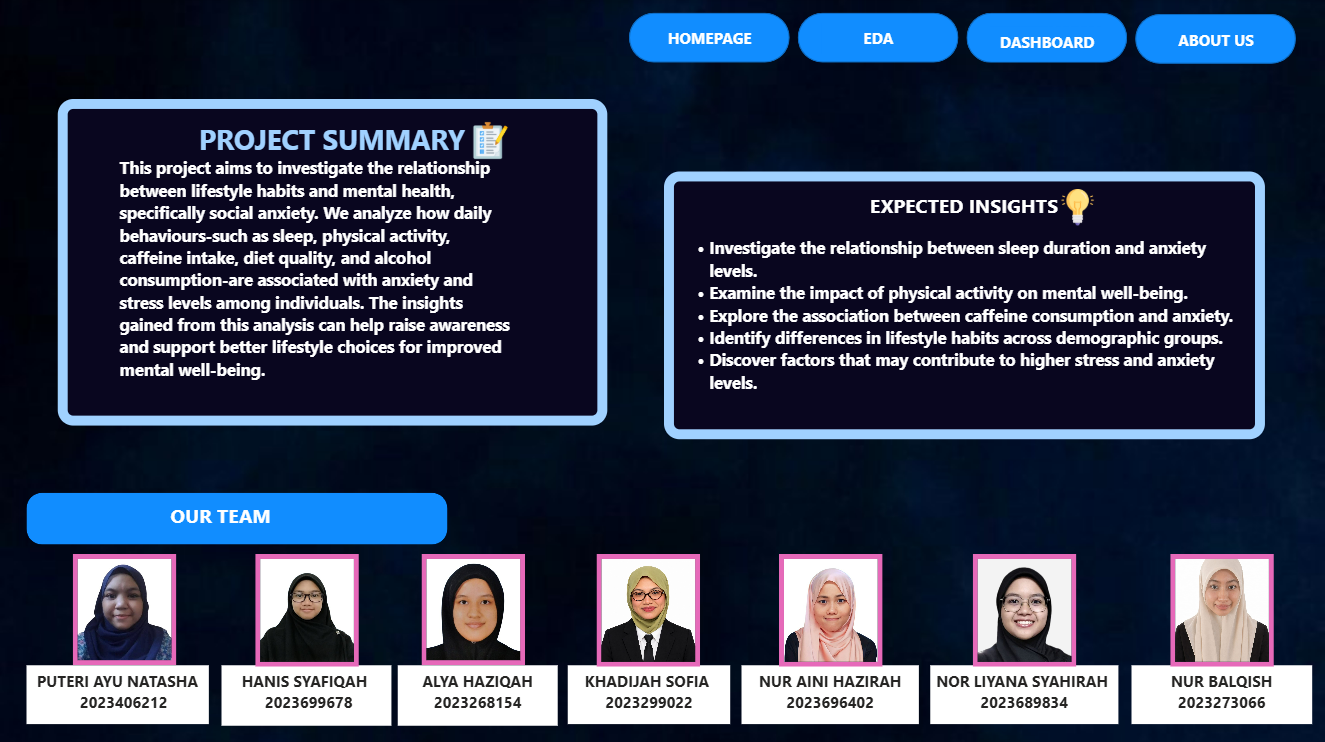

What the dashboard file says about the page in this screenshot:
{"tool":"powerbi","page":{"name":"About Us","canvas":[1280,720],"ordinal":3},"visuals":[{"type":"shape","title":"DASHBOARD","box":[933.6,13.3,155,48.3],"z":0,"group":"g1"},{"type":"group","id":"g1","title":"Group 5","box":[933.6,13.3,155,48.3],"z":0,"group":"g6"},{"type":"textbox","box":[56.7,96.7,530,315],"z":0},{"type":"shape","title":"DASHBOARD","box":[771.5,13.3,155,48],"z":1000,"group":"g2"},{"type":"group","id":"g2","title":"Group 6","box":[771.5,13.3,155,48.3],"z":1000,"group":"g6"},{"type":"shape","box":[26.2,476.2,406.2,50],"z":1000,"group":"g5"},{"type":"textbox","box":[27.1,642.9,175.7,57.1],"z":1000},{"type":"group","id":"g3","title":"Group 7","box":[608.3,13.3,155,48.3],"z":2000,"group":"g6"},{"type":"textbox","box":[214.3,642.9,164.3,58.6],"z":2000},{"type":"shape","title":"DASHBOARD","box":[608.3,13.3,155,48],"z":3000,"group":"g3"},{"type":"group","id":"g4","title":"Group 8","box":[1096.9,15,155,48],"z":3000,"group":"g6"},{"type":"textbox","box":[956.5,26.8,110,30],"z":3000,"group":"g1"},{"type":"textbox","box":[384.3,642.9,154.3,58.6],"z":3000},{"type":"textbox","box":[548.6,642.9,157.1,57.1],"z":4000},{"type":"shape","title":"DASHBOARD","box":[1096.9,15,155,48],"z":5000,"group":"g4"},{"type":"textbox","box":[717.1,642.9,171.4,57.1],"z":5000},{"type":"textbox","box":[898.6,642.9,181.4,57.1],"z":6000},{"type":"textbox","box":[631.2,23.5,110,30],"z":7000,"group":"g3"},{"type":"textbox","box":[1092.9,642.9,174.3,57.1],"z":7000},{"type":"textbox","box":[641.7,166.7,580,258.3],"z":8000},{"type":"textbox","box":[112.4,481.2,203.8,40],"z":8000,"group":"g5"},{"type":"textbox","box":[794.4,23.5,110,30],"z":9000,"group":"g2"},{"type":"image","box":[453.3,118.3,41.7,36.7],"z":9000},{"type":"image","box":[1013.3,183.3,55,35],"z":10000},{"type":"textbox","box":[1119.8,25.2,110,30],"z":11000,"group":"g4"},{"type":"group","id":"g5","title":"Group 1","box":[26.2,476.2,406.2,50],"z":11000},{"type":"image","box":[247.1,535.7,100,108.6],"z":12000},{"type":"image","box":[407.5,536.2,100,107.5],"z":13000},{"type":"image","box":[577.1,535.7,100,108.6],"z":14000},{"type":"image","box":[752.9,535.7,100,108.6],"z":15000},{"type":"image","box":[1130,535.7,100,108.6],"z":16000},{"type":"image","box":[940,535.7,100,108.6],"z":17000},{"type":"image","box":[71.2,536.2,100,107.5],"z":18000},{"type":"group","id":"g6","title":"Group 9","box":[608.3,13.3,643.3,50],"z":19000}]}

Visuals, with their boxes in screenshot pixels (x1, y1, x2, y2), scaled from the page's 1280x720 canvas onto the 1325x742 screenshot:
"DASHBOARD" shape: <bbox>966, 14, 1127, 63</bbox>
"Group 5" group: <bbox>966, 14, 1127, 63</bbox>
textbox: <bbox>59, 100, 607, 424</bbox>
"DASHBOARD" shape: <bbox>799, 14, 959, 63</bbox>
"Group 6" group: <bbox>799, 14, 959, 63</bbox>
shape: <bbox>27, 491, 448, 542</bbox>
textbox: <bbox>28, 663, 210, 721</bbox>
"Group 7" group: <bbox>630, 14, 790, 63</bbox>
textbox: <bbox>222, 663, 392, 723</bbox>
"DASHBOARD" shape: <bbox>630, 14, 790, 63</bbox>
"Group 8" group: <bbox>1135, 15, 1296, 65</bbox>
textbox: <bbox>990, 28, 1104, 59</bbox>
textbox: <bbox>398, 663, 558, 723</bbox>
textbox: <bbox>568, 663, 731, 721</bbox>
"DASHBOARD" shape: <bbox>1135, 15, 1296, 65</bbox>
textbox: <bbox>742, 663, 920, 721</bbox>
textbox: <bbox>930, 663, 1118, 721</bbox>
textbox: <bbox>653, 24, 767, 55</bbox>
textbox: <bbox>1131, 663, 1312, 721</bbox>
textbox: <bbox>664, 172, 1265, 438</bbox>
textbox: <bbox>116, 496, 327, 537</bbox>
textbox: <bbox>822, 24, 936, 55</bbox>
image: <bbox>469, 122, 512, 160</bbox>
image: <bbox>1049, 189, 1106, 225</bbox>
textbox: <bbox>1159, 26, 1273, 57</bbox>
"Group 1" group: <bbox>27, 491, 448, 542</bbox>
image: <bbox>256, 552, 359, 664</bbox>
image: <bbox>422, 553, 525, 663</bbox>
image: <bbox>597, 552, 701, 664</bbox>
image: <bbox>779, 552, 883, 664</bbox>
image: <bbox>1170, 552, 1273, 664</bbox>
image: <bbox>973, 552, 1077, 664</bbox>
image: <bbox>74, 553, 177, 663</bbox>
"Group 9" group: <bbox>630, 14, 1296, 65</bbox>
